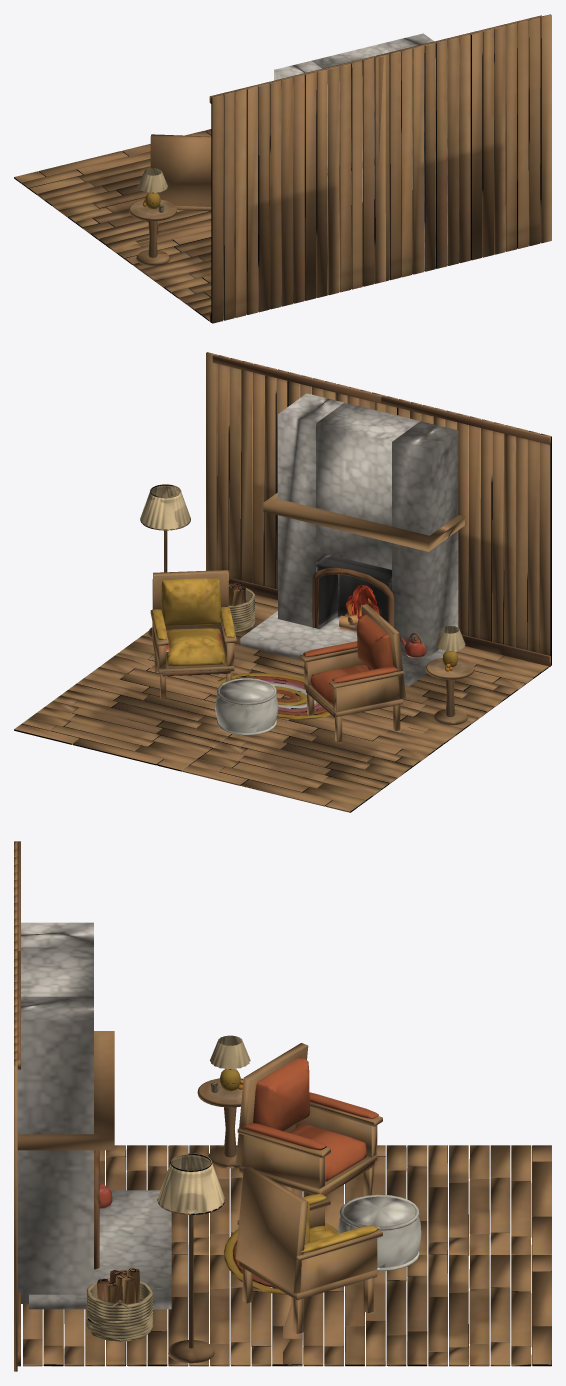
Rendered from hearth_nook.glb.
3 renders of one model, top to bottom at view 1: azimuth 30°, elevation 25°; view 2: azimuth 150°, elevation 25°; view 3: azimuth 270°, elevation 25°, orthographic. The views are drawn at different scales.
Visible parts, largest first — view 1: prop_hearth_nook_wood, prop_hearth_nook_felt, prop_hearth_nook_paper; view 2: prop_hearth_nook_wood, prop_hearth_nook_felt, prop_hearth_nook_paper, prop_hearth_nook_fire; view 3: prop_hearth_nook_wood, prop_hearth_nook_felt, prop_hearth_nook_paper.
Part boxes in pixels (<box>): prop_hearth_nook_wood: <box>14,14,551,323</box>; prop_hearth_nook_felt: <box>143,33,447,292</box>; prop_hearth_nook_paper: <box>138,168,167,192</box>; prop_hearth_nook_wood: <box>14,352,551,812</box>; prop_hearth_nook_felt: <box>152,393,458,735</box>; prop_hearth_nook_paper: <box>140,485,465,650</box>; prop_hearth_nook_fire: <box>346,585,379,618</box>; prop_hearth_nook_wood: <box>14,841,551,1371</box>; prop_hearth_nook_felt: <box>17,922,421,1342</box>; prop_hearth_nook_paper: <box>157,1035,250,1214</box>.
Size of the model in its own units: 8.19 by 5.2 by 8.28.
Materials: 4 (4 with a texture image).
